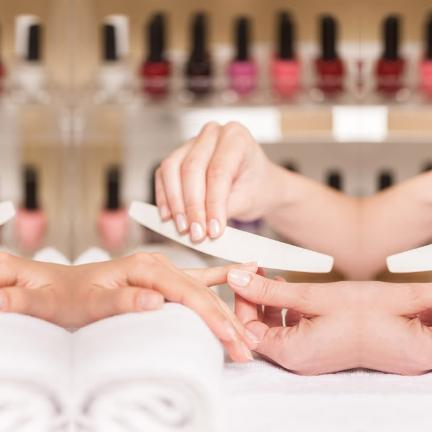Nail: (227, 268, 251, 287), (139, 294, 164, 310), (224, 319, 237, 342), (191, 222, 205, 241), (241, 342, 254, 360), (176, 214, 188, 233), (245, 329, 261, 343), (210, 218, 220, 238), (161, 205, 168, 219), (0, 294, 5, 309), (242, 262, 257, 266)
